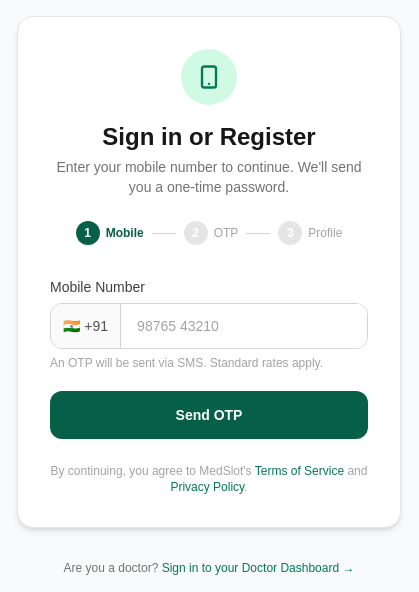
it: PatientOtpAuth › Step 2 — OTP entry › Resend OTP button becomes enabled after timer expires
Type "9876543210" into the field labelled "Mobile Number" at (244, 326), box [121,304,367,348]
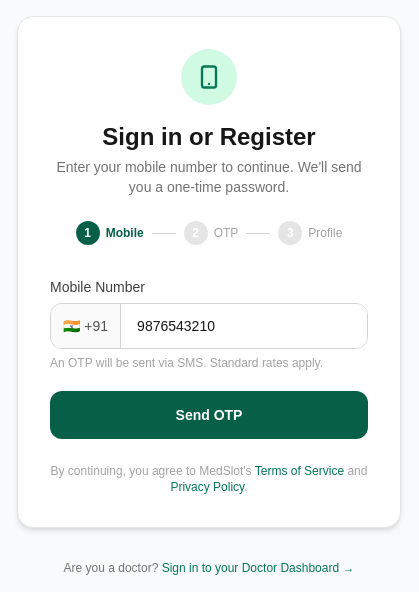
Click the button "Send OTP" at (209, 415), box [50,391,368,439]
Wait 30000 ms
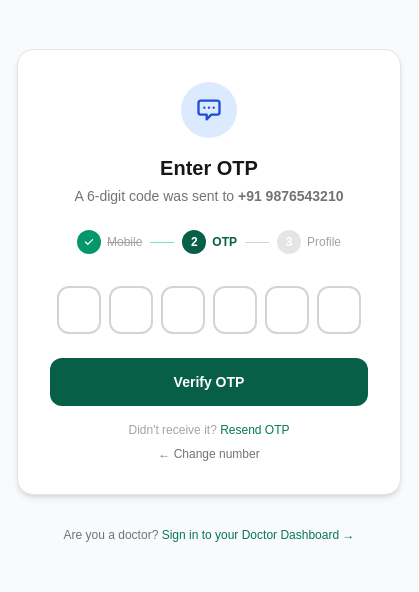
expect the heading "Enter OTP" is shown: met, box [160,157,258,179]
expect the button "Resend OTP" is enabled: met, box [220,422,290,438]
